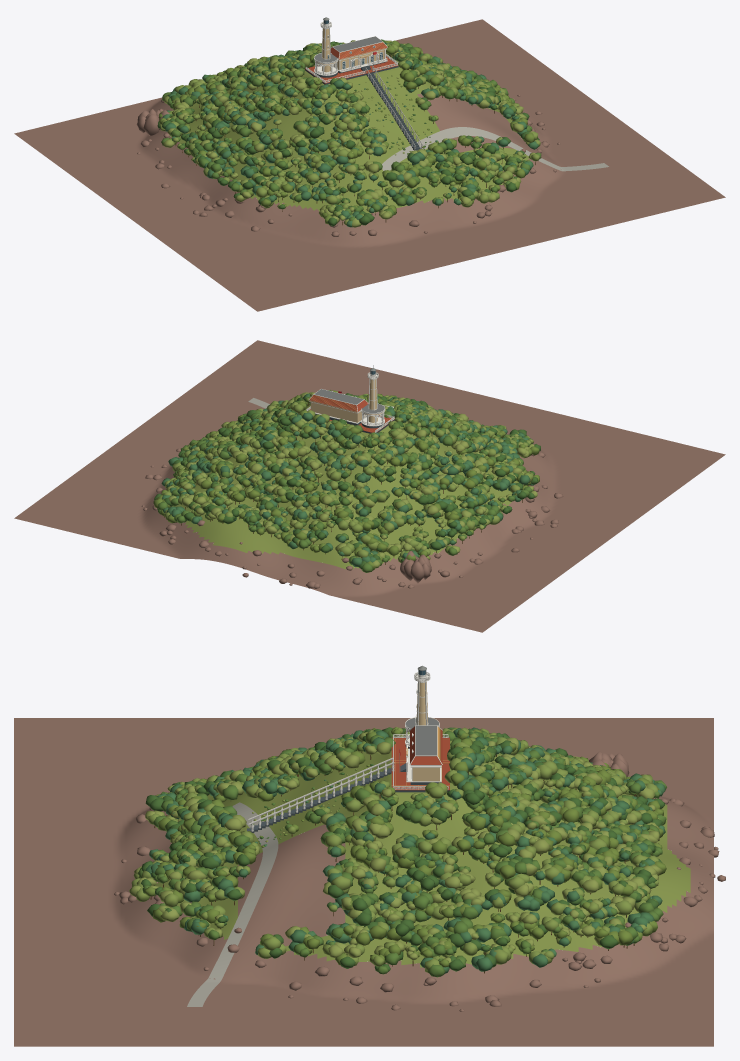
Rendered from lighthouse_landscape.glb.
The picture shows the model from 3 angles, top to bottom: view 1: azimuth 30°, elevation 25°; view 2: azimuth 150°, elevation 25°; view 3: azimuth 270°, elevation 25°; orthographic projection. The views are drawn at different scales.
Visible parts, largest first — view 1: Raised courtyard; view 2: Raised courtyard; view 3: Raised courtyard.
Boxes of the visible parts, box(x1,y1,x2,y2) form: Raised courtyard: box(14, 17, 725, 311); Raised courtyard: box(14, 340, 725, 632); Raised courtyard: box(14, 665, 725, 1046).
Size of the model in its own units: 200 by 59.48 by 183.
